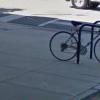Bicycle: (44, 15, 100, 71)
